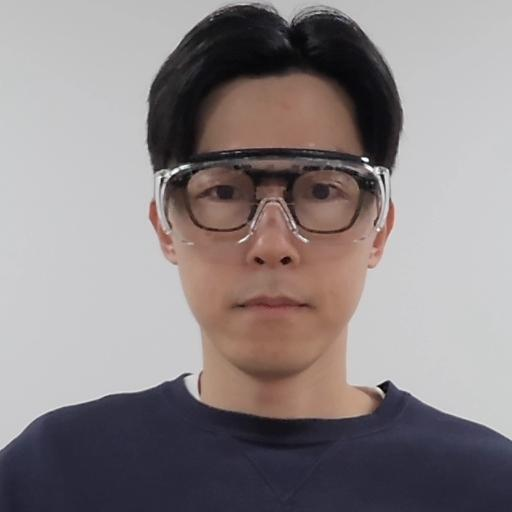glasses: (146, 0, 407, 382)
